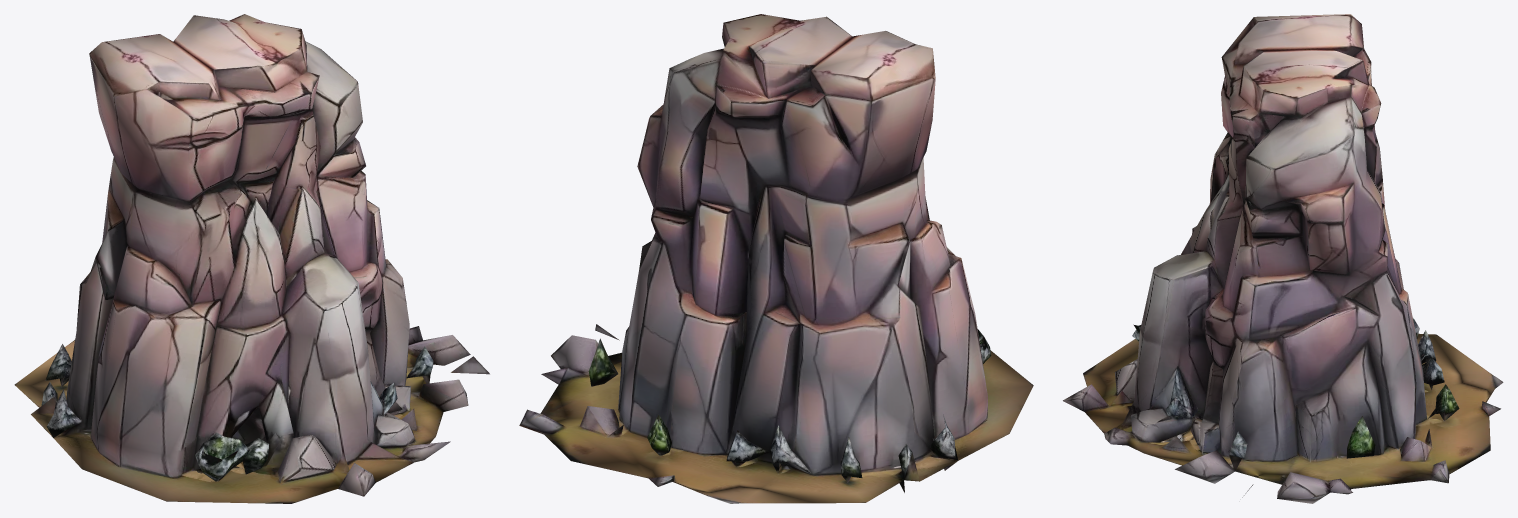
The model's file is rock1.glb.
3 renders of one model, left to right at view 1: azimuth 30°, elevation 25°; view 2: azimuth 150°, elevation 25°; view 3: azimuth 270°, elevation 25°, orthographic. The views are drawn at different scales.
Bounding box in the file's own units: 1.97 × 1.79 × 2.
1 material, 1 textured.
